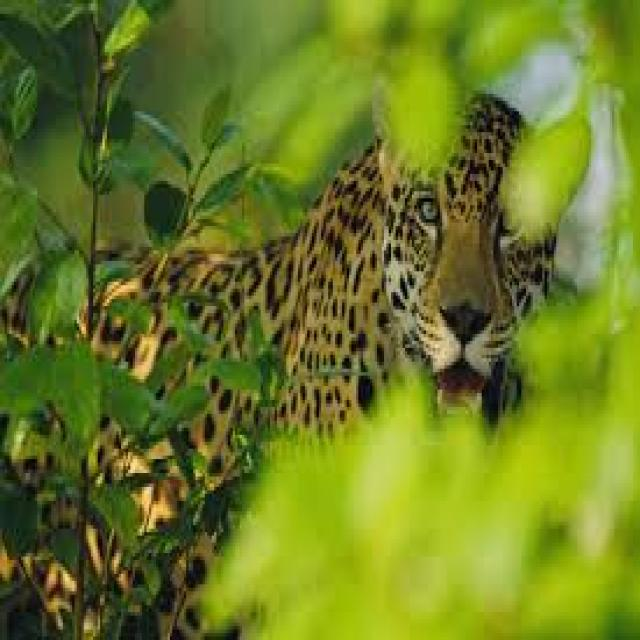Jaguar: (107, 105, 521, 452)
